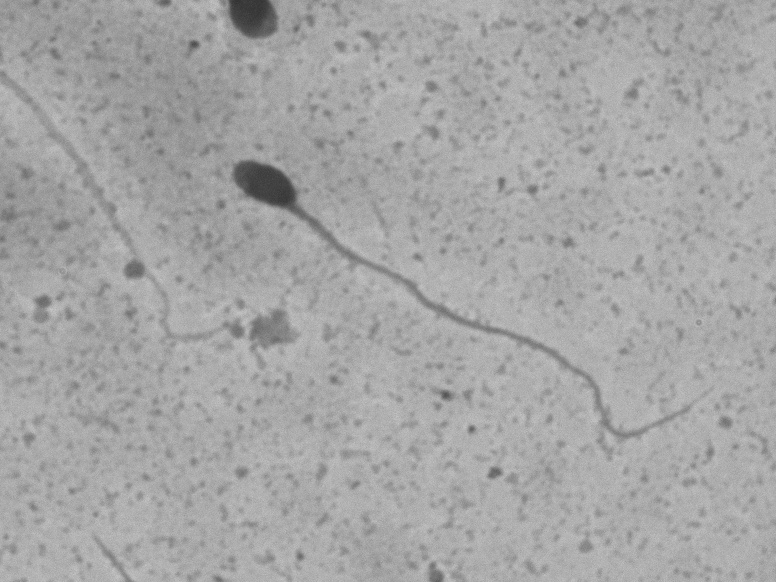Abnormal: (212, 125, 719, 512)
